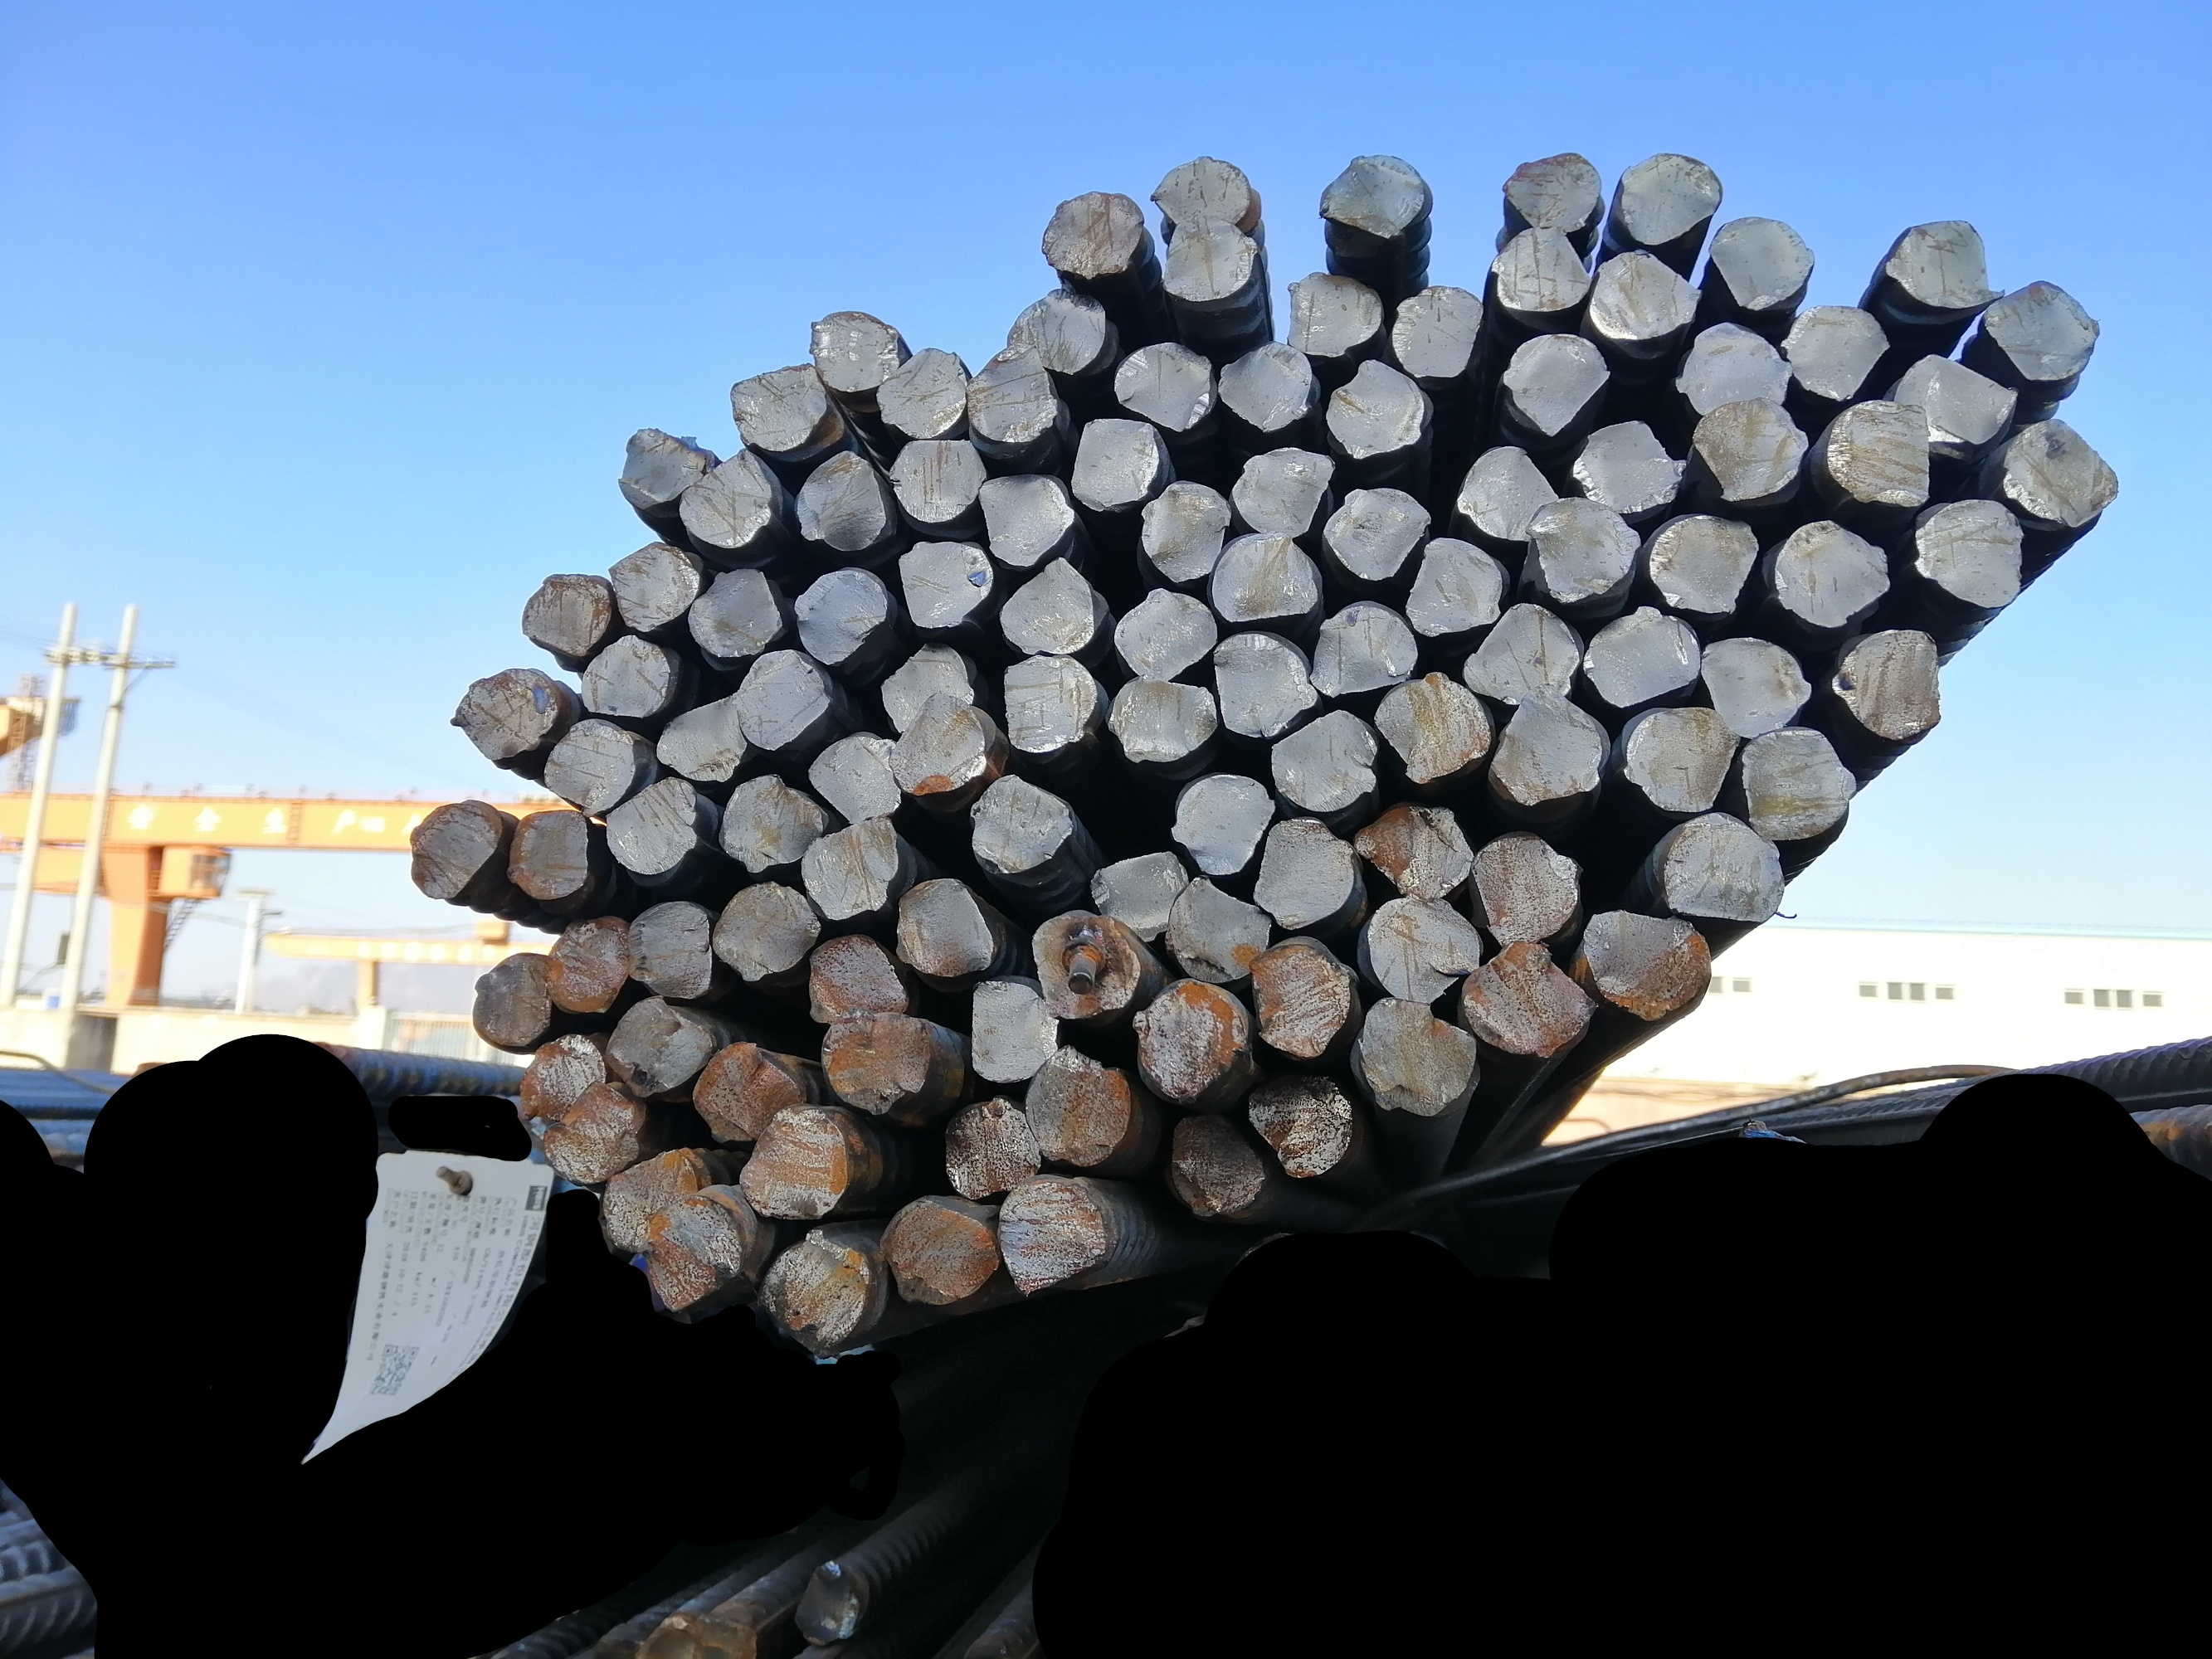rebar: (1658, 803, 1794, 931), (1583, 901, 1717, 1023), (1353, 992, 1480, 1119), (1907, 490, 2029, 620), (755, 1227, 873, 1359), (1462, 939, 1595, 1058), (1485, 680, 1607, 807), (1130, 976, 1250, 1105), (1023, 901, 1145, 1026), (1978, 270, 2109, 385), (1018, 1037, 1131, 1169), (879, 1187, 999, 1310), (1353, 887, 1480, 1004), (1999, 413, 2127, 528), (1891, 338, 2019, 451), (1740, 725, 1856, 847), (1569, 408, 1693, 523), (1161, 870, 1279, 988), (1822, 389, 1940, 507), (997, 1171, 1105, 1300), (1372, 676, 1497, 786), (1675, 307, 1792, 423), (736, 1103, 854, 1218), (1832, 624, 1947, 742), (818, 1006, 934, 1121), (1689, 392, 1806, 507), (1645, 504, 1759, 622), (1696, 631, 1815, 744), (1497, 328, 1618, 439), (1208, 626, 1321, 742), (1245, 941, 1356, 1060), (1471, 831, 1583, 950), (1464, 598, 1581, 709), (1586, 599, 1703, 711), (1874, 207, 1999, 310), (1245, 1068, 1356, 1183), (1523, 495, 1640, 605), (1628, 701, 1738, 817), (1776, 518, 1888, 631), (638, 1197, 744, 1314), (1109, 582, 1227, 687), (1455, 444, 1571, 551), (723, 356, 838, 462), (535, 1079, 647, 1187), (1400, 535, 1513, 641), (1781, 296, 1895, 403), (706, 878, 821, 983), (1222, 443, 1344, 540), (690, 1037, 802, 1143), (1157, 1112, 1269, 1218), (450, 660, 561, 767), (891, 870, 995, 983), (1356, 802, 1473, 903), (1253, 819, 1356, 932), (940, 1094, 1046, 1202), (1107, 666, 1220, 767), (800, 817, 908, 922), (1264, 713, 1377, 812), (791, 444, 891, 558), (964, 777, 1079, 875), (990, 559, 1105, 657), (1588, 247, 1703, 345), (605, 990, 709, 1096), (1166, 769, 1271, 875), (884, 690, 992, 793), (1618, 145, 1726, 247), (1705, 207, 1815, 308), (715, 772, 826, 871), (1321, 359, 1433, 458), (1309, 603, 1422, 701), (962, 345, 1070, 446), (1110, 333, 1220, 432), (1279, 267, 1391, 364), (964, 971, 1060, 1084), (1316, 153, 1433, 246), (535, 713, 638, 817), (598, 777, 704, 878), (1001, 286, 1114, 380), (736, 648, 838, 751), (1060, 408, 1163, 511), (997, 647, 1098, 751), (973, 467, 1074, 572), (872, 345, 976, 446), (896, 535, 1002, 634), (1327, 484, 1431, 584), (600, 540, 706, 638), (786, 566, 892, 664), (1084, 847, 1192, 943), (1213, 528, 1323, 622), (404, 798, 504, 901), (600, 1152, 708, 1246), (1133, 477, 1227, 586), (804, 727, 905, 826), (680, 563, 783, 660), (542, 915, 636, 1021), (804, 932, 910, 1026), (626, 894, 718, 1002), (1039, 181, 1142, 277), (675, 450, 774, 547), (1149, 150, 1259, 237), (882, 640, 978, 739), (891, 434, 994, 526), (655, 694, 751, 791), (514, 1039, 608, 1138), (467, 950, 558, 1053), (1504, 148, 1604, 239), (1218, 343, 1320, 432), (1492, 223, 1593, 310), (1157, 214, 1257, 301), (809, 301, 901, 394), (568, 640, 675, 720), (516, 579, 626, 655), (610, 429, 715, 509), (507, 807, 596, 901), (1389, 286, 1476, 382)
